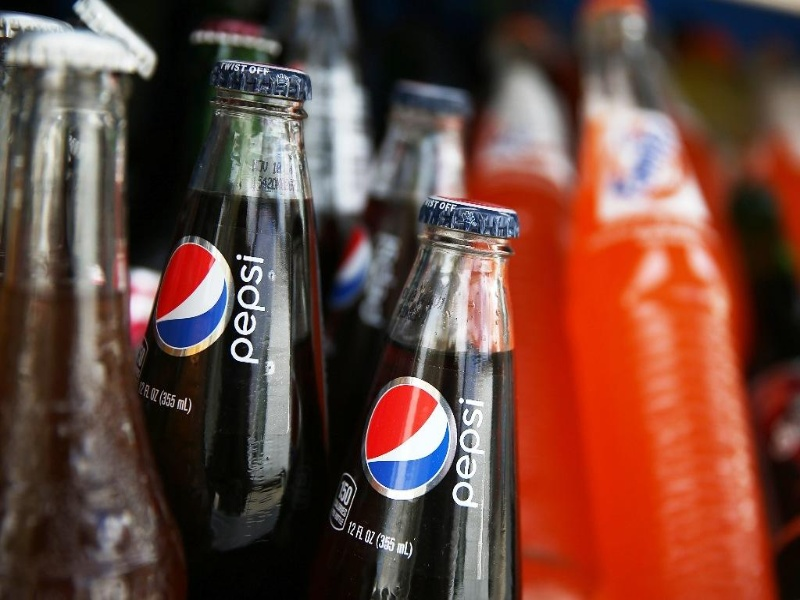Glass bottle: (115, 29, 361, 566), (265, 141, 547, 600)
